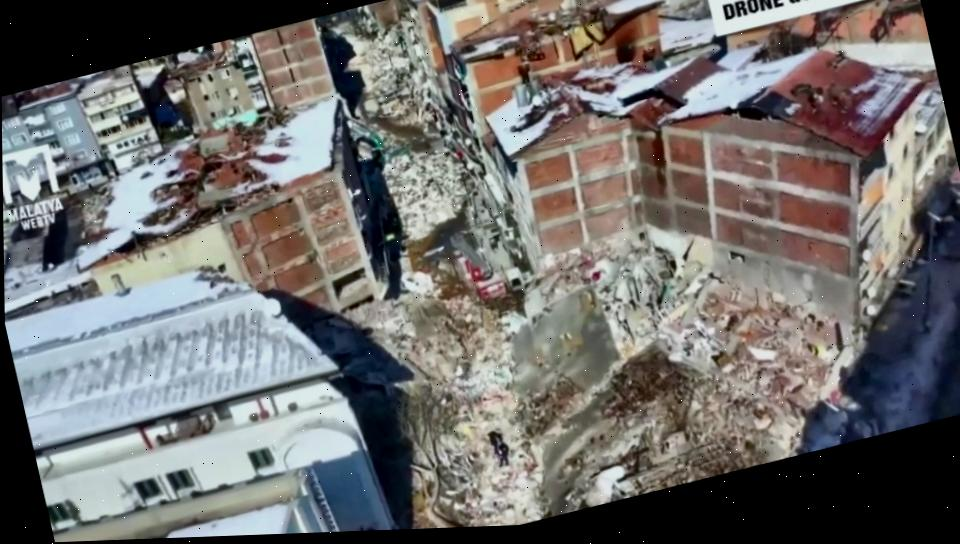kapali: (409, 257, 553, 528), (376, 143, 485, 253), (328, 28, 434, 138)
